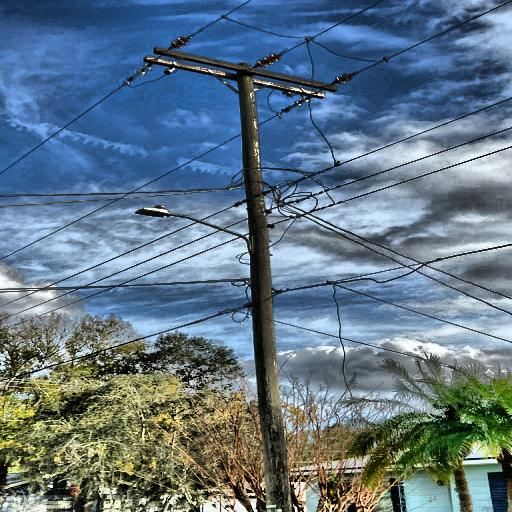pole: (229, 68, 311, 512)
street light: (131, 205, 257, 253)
